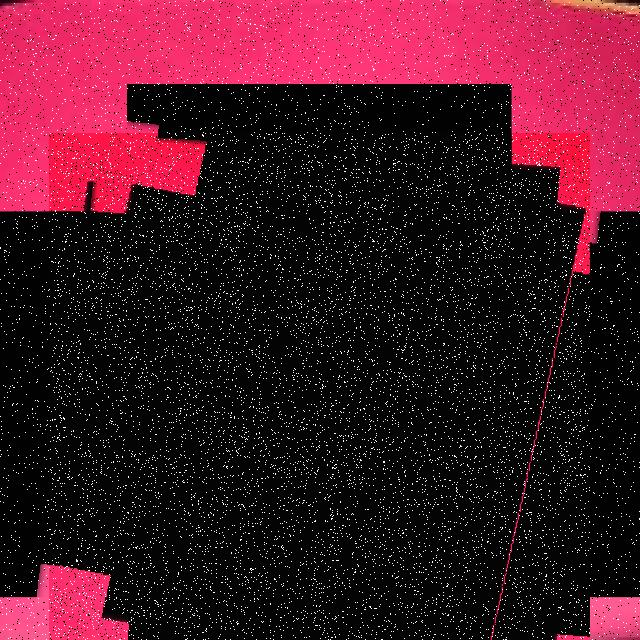dua ribu rupiah: (49, 133, 590, 640)
